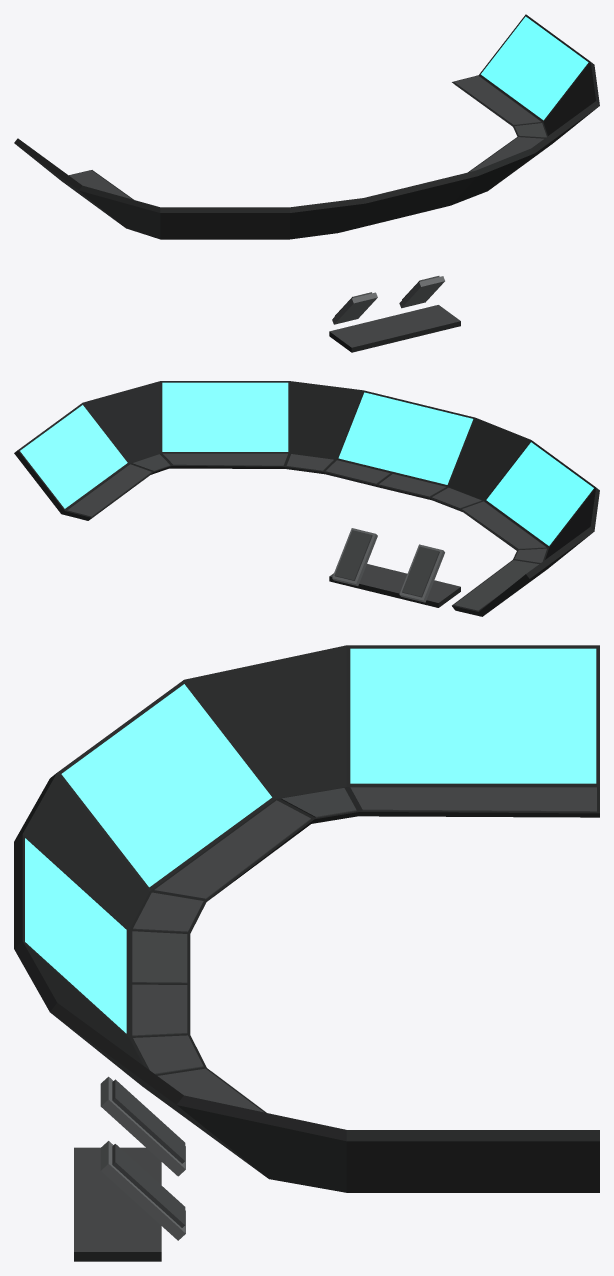
File: Cockpit_Screen_LODGroup.fbx
3 views of the same model, one above another, from view 1: azimuth 30°, elevation 25°; view 2: azimuth 150°, elevation 25°; view 3: azimuth 270°, elevation 25° (orthographic). The views are drawn at different scales.
Parts seen in each view (by area): view 1: Cockpit Screen _LOD0; view 2: Cockpit Screen _LOD0; view 3: Cockpit Screen _LOD0.
Part boxes in pixels (x1,y1,x2,y2): Cockpit Screen _LOD0: (14, 14, 599, 352); Cockpit Screen _LOD0: (14, 381, 599, 616); Cockpit Screen _LOD0: (14, 645, 599, 1261).
Size of what is drawn, in the model's own units: 3.86 by 1.18 by 1.94.
